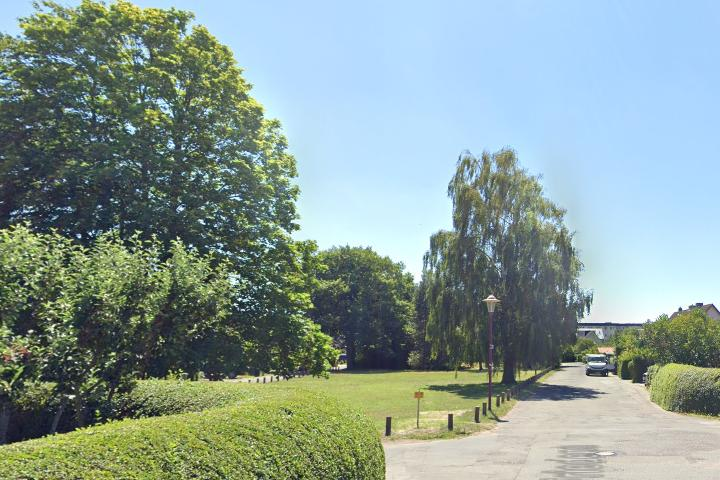vehicle: (582, 352, 611, 377)
